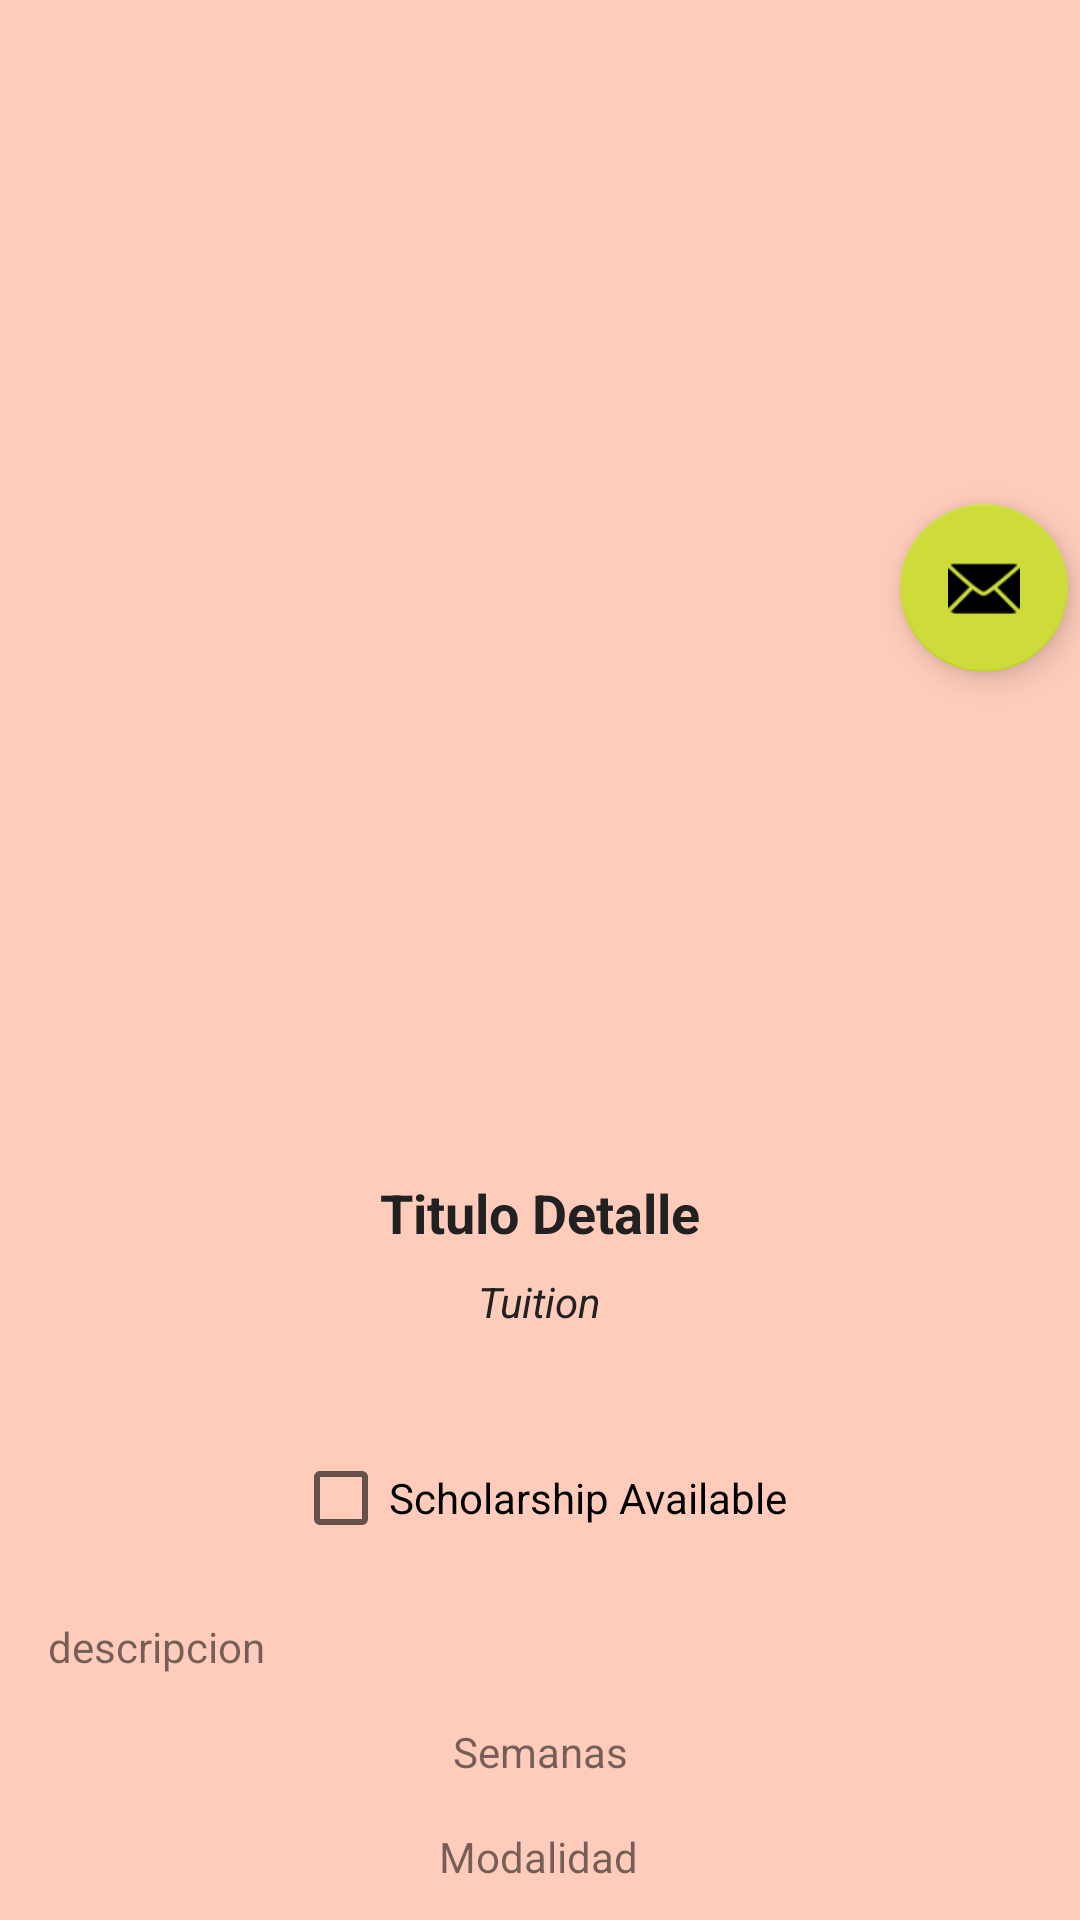

Screen size 1080 × 1920. Icon name, then its box in pixels as (x1, y1, x2, y2):
Enviar Email: (900, 504, 1068, 672)
